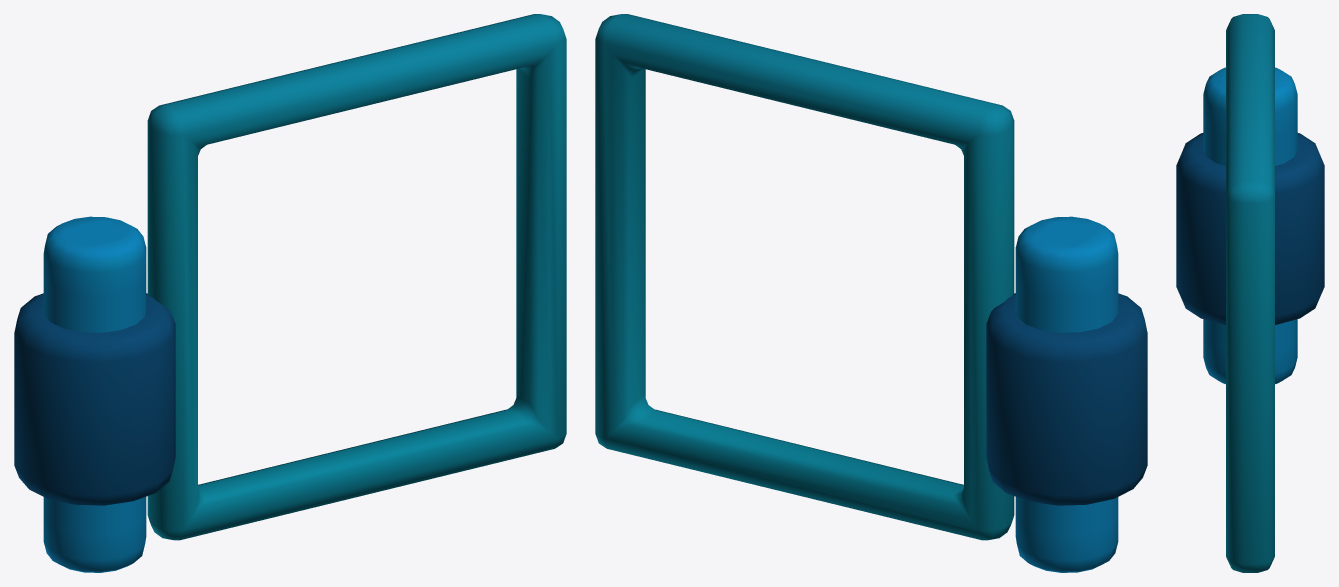
File: candy_platform10.fbx
The picture shows the model from 3 angles, left to right: view 1: azimuth 30°, elevation 25°; view 2: azimuth 150°, elevation 25°; view 3: azimuth 270°, elevation 25°; orthographic projection. The views are drawn at different scales.
Parts seen in each view (by area): view 1: candy_platform10 (×2); view 2: candy_platform10 (×2); view 3: candy_platform10 (×2).
Boxes of the visible parts, left/top/right/bottom form: candy_platform10 (×2): left=14, top=14, right=566, bottom=572; candy_platform10 (×2): left=595, top=14, right=1147, bottom=572; candy_platform10 (×2): left=1176, top=14, right=1324, bottom=572.
Bounding box in the file's own units: 331 × 254 × 87.1.
1 material, 1 textured.
